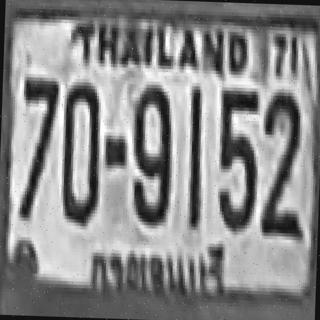N00: (60, 78, 99, 223)
N01: (185, 86, 202, 227)
N02: (258, 87, 302, 235), (259, 87, 300, 225)
N05: (215, 87, 258, 229)
N07: (18, 74, 56, 218)
N09: (129, 80, 172, 222)
P17: (86, 240, 233, 308)
